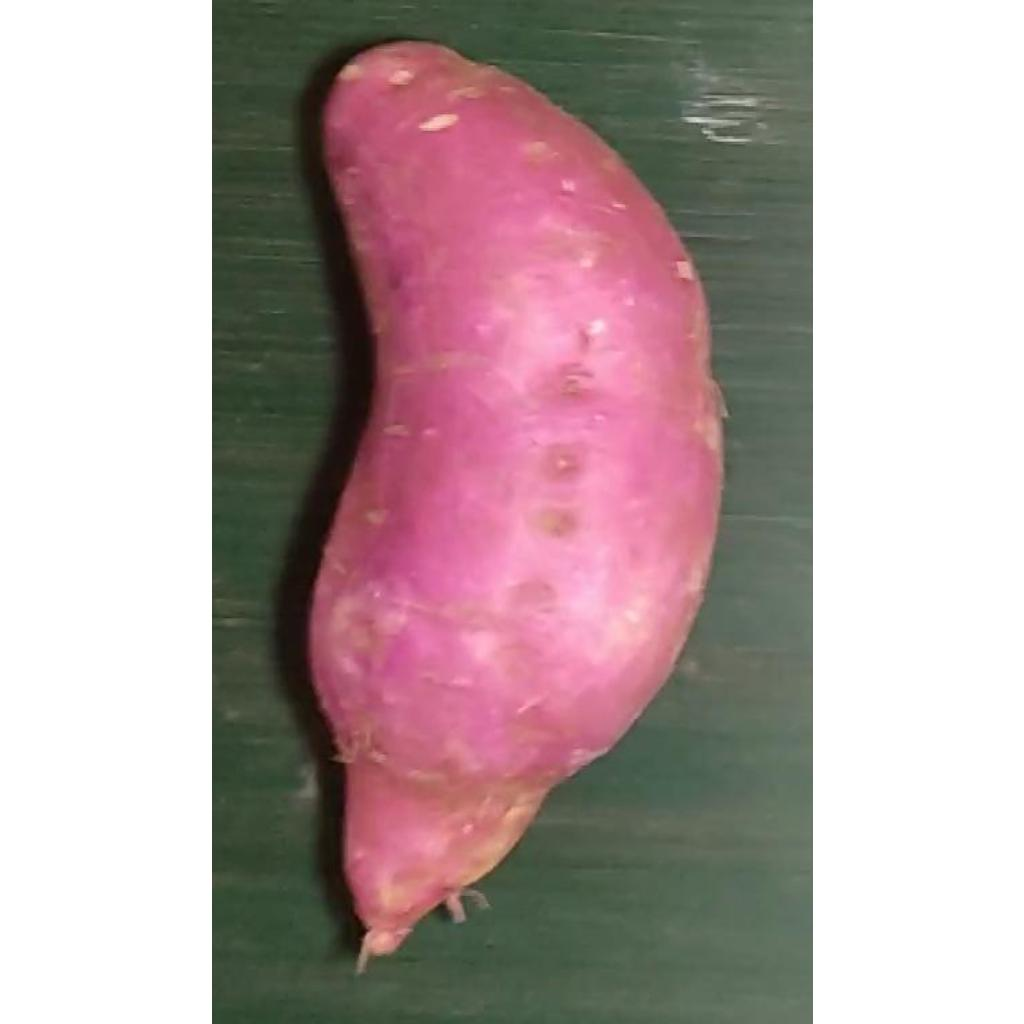Sweet Potato: (305, 41, 727, 974)
